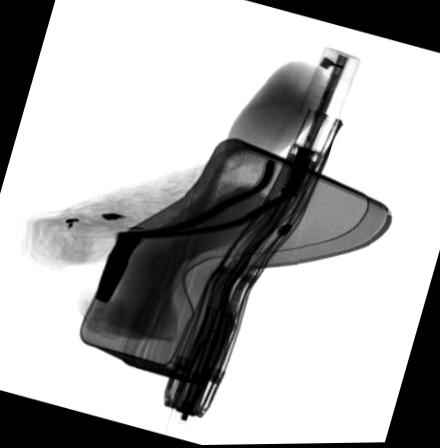Pliers: (94, 141, 324, 304)
